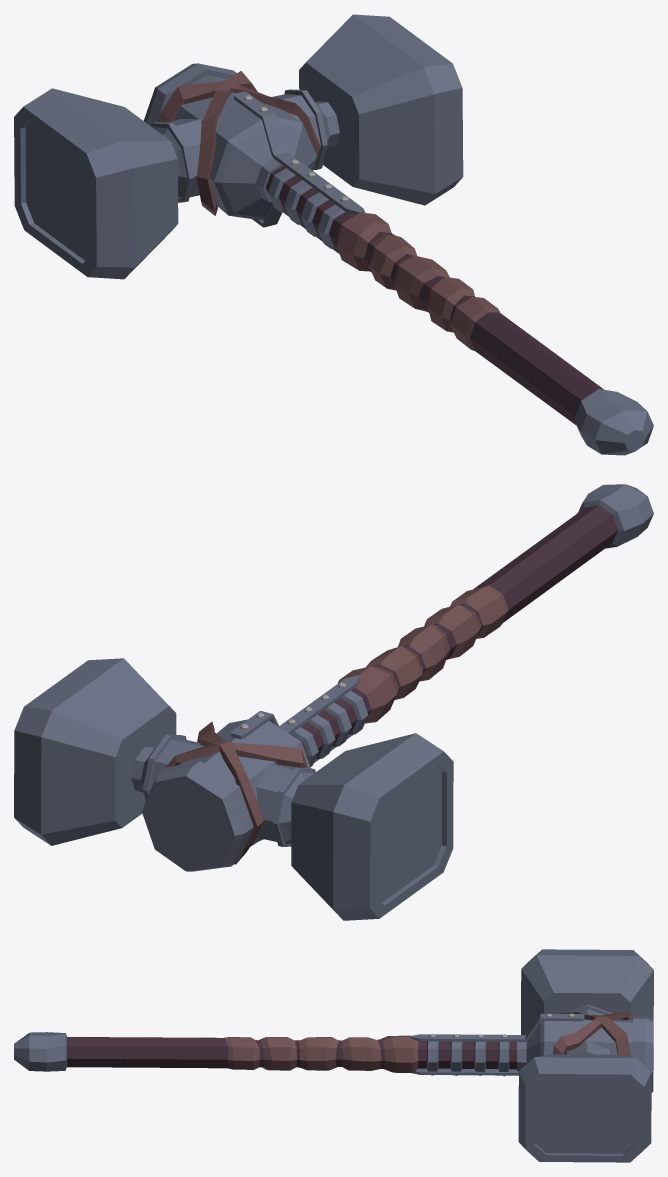
File: stone_hammer.glb
The picture shows the model from 3 angles, top to bottom: view 1: azimuth 30°, elevation 25°; view 2: azimuth 150°, elevation 25°; view 3: azimuth 270°, elevation 25°; orthographic projection. The views are drawn at different scales.
Visible parts, largest first — view 1: Hammer_Double; view 2: Hammer_Double; view 3: Hammer_Double.
Boxes of the visible parts, x1,y1,x2,y2 form: Hammer_Double: (14,14,653,455); Hammer_Double: (14,484,653,920); Hammer_Double: (14,949,653,1162).
Bounding box in the file's own units: 1.19 × 0.437 × 2.53.
